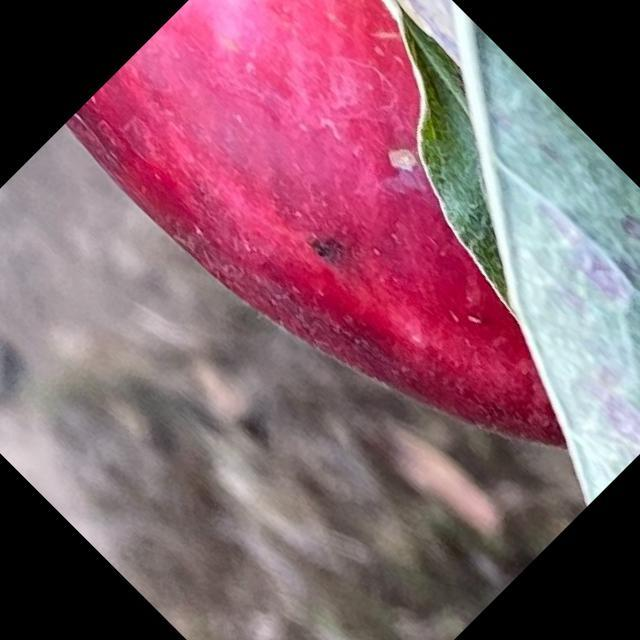100-_ripeness: (60, 0, 639, 534)
